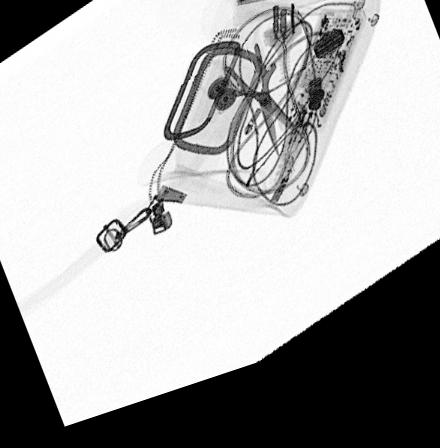Scissors: (217, 56, 307, 180)
